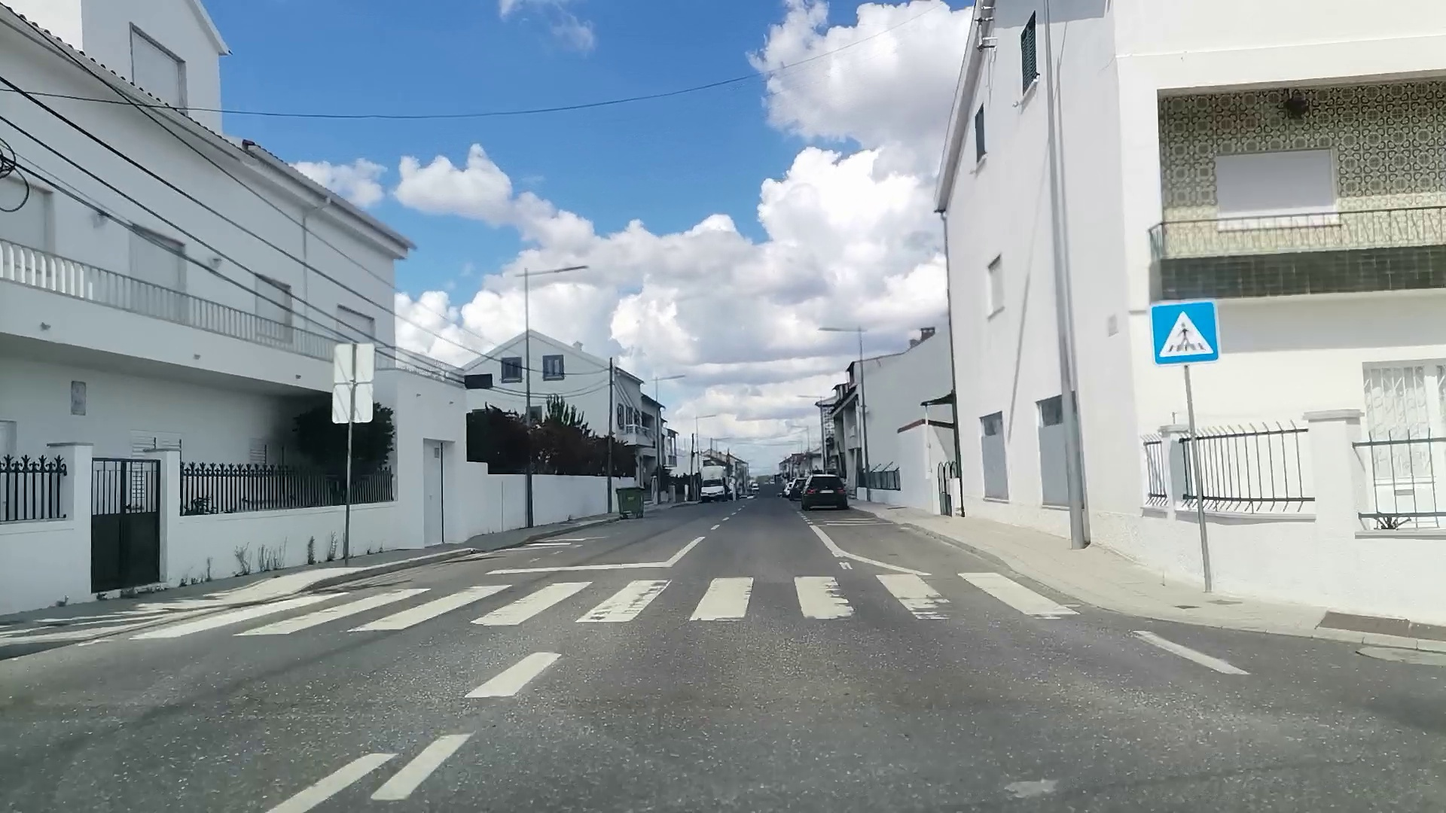Stairs: (119, 571, 1064, 644)
